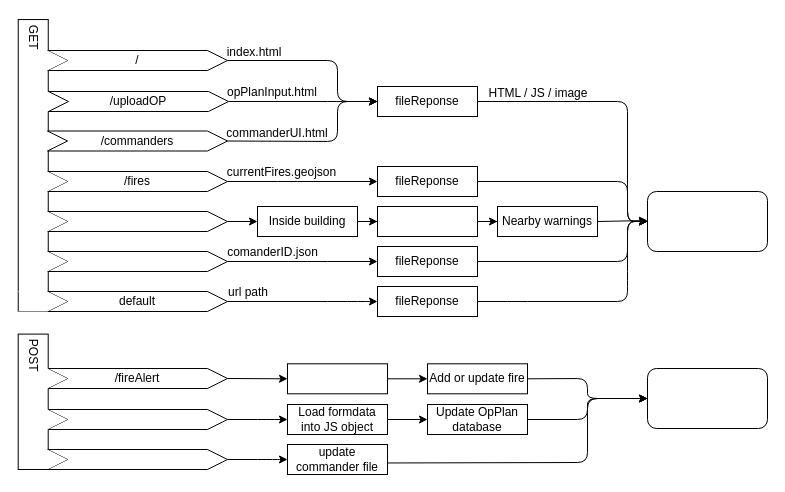
This 785x492 diagram has some shape labels left out. The shapes that lost their labels are listed below. From the top down, each one's box as (x1, y1, x2, y2) in pixels, then its label:
(46, 210, 228, 232): /operativePlans=n;n_n;n
(376, 206, 478, 236): OP-plans
(646, 190, 768, 252): HTTP response to client
(46, 250, 228, 272): /commanderList
(286, 363, 388, 394): Check if fire exists
(646, 368, 768, 428): HTTP 'OK' response to client
(46, 408, 228, 430): /addOpPlan
(46, 448, 228, 470): /assignCommander
